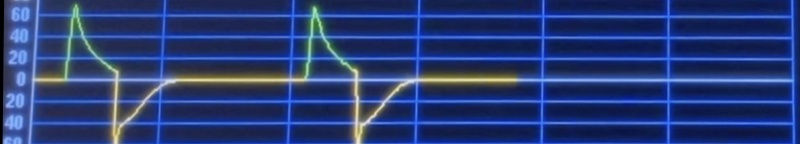normal_flow: (71, 4, 415, 144)
